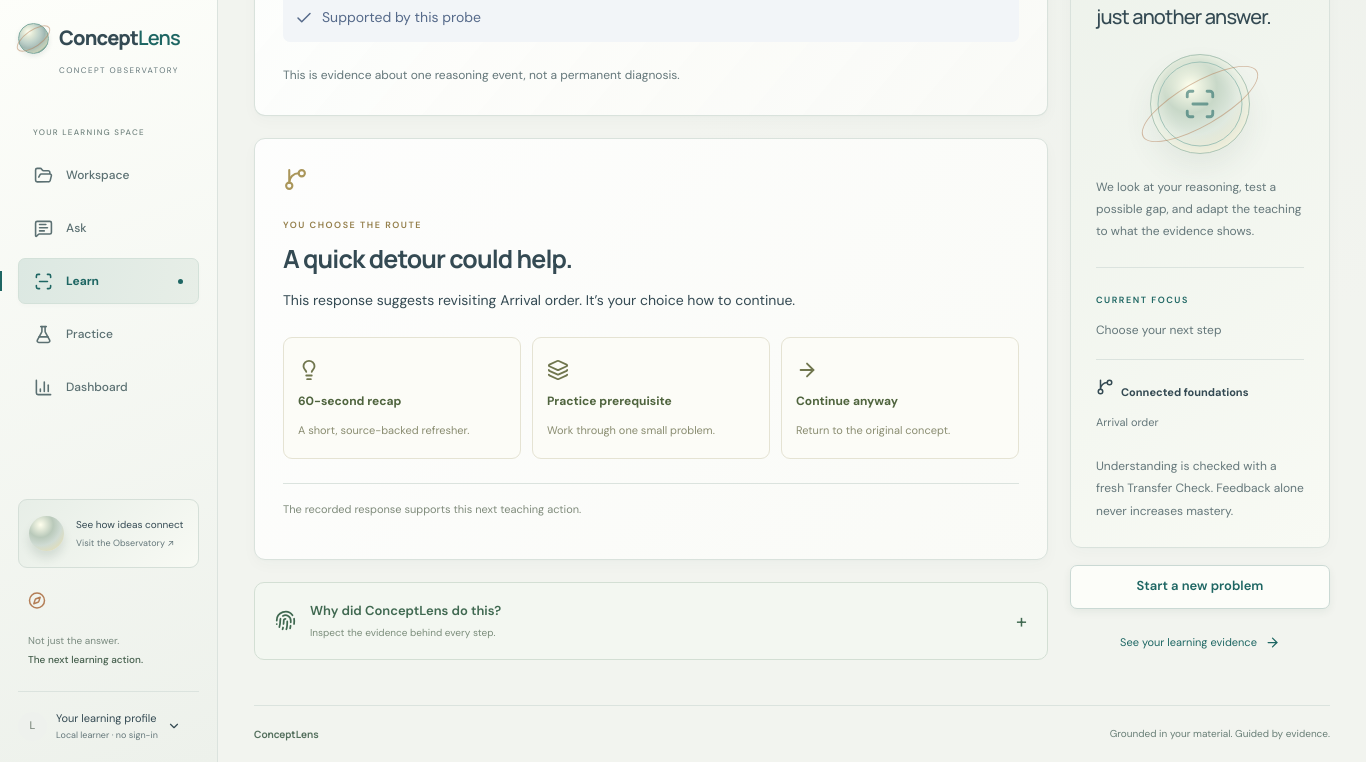
application contracts › posts practice_prerequisite and renders only the returned strategy
(page scrolled)
Click the button "Practice prerequisite Work through one small problem." at coordinates (651, 398), box [532,337,770,459]
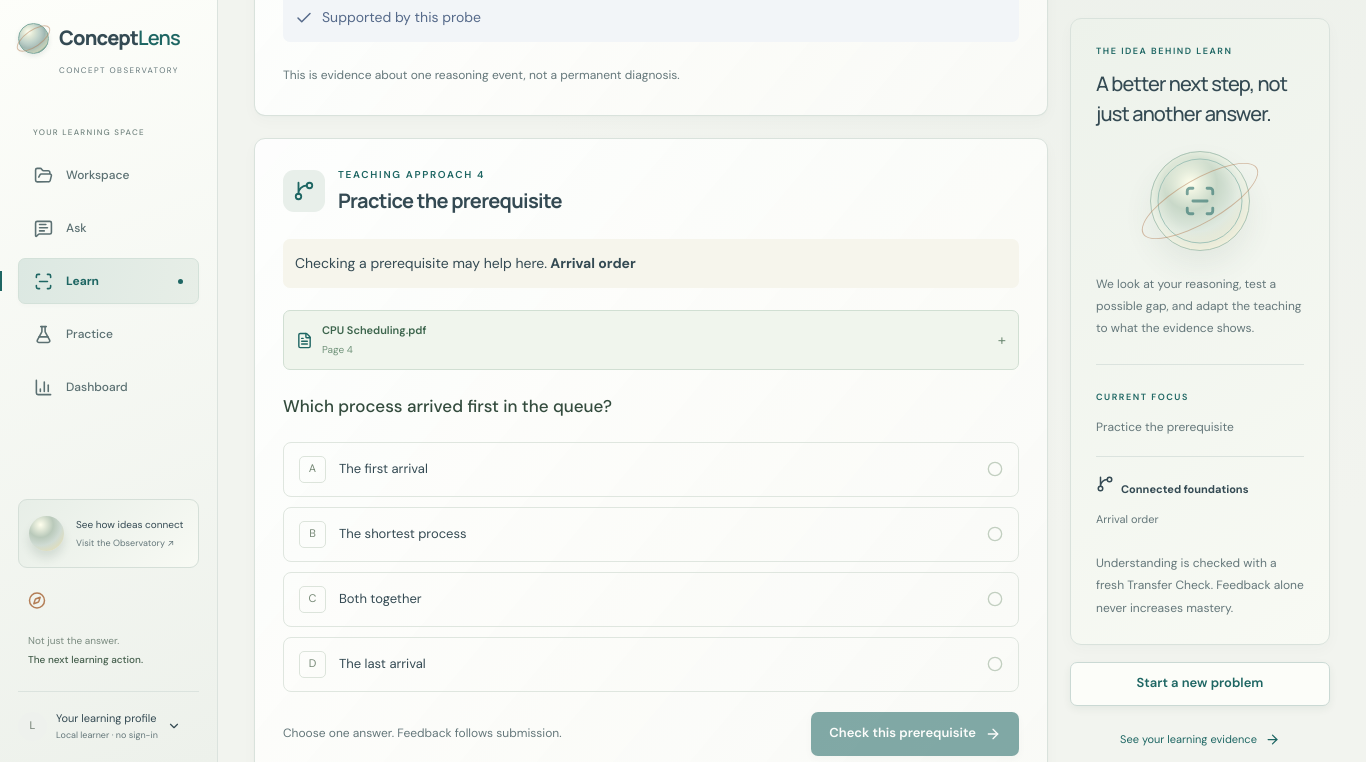
expect the heading "Practice the prerequisite" is shown: met, box [338,188,562,214]
